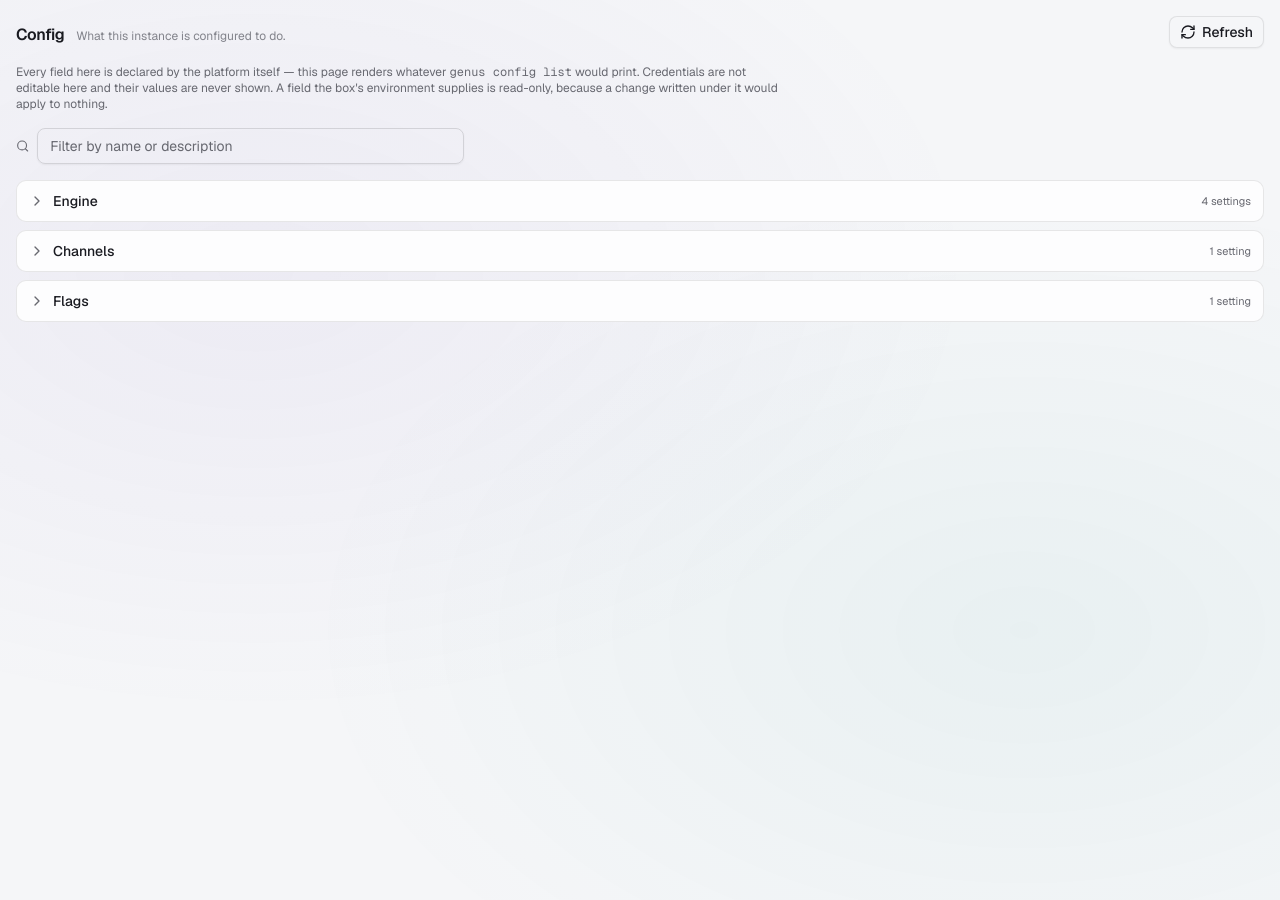
Test case: Settings › Config › never gives a secret an input, and never shows its value
Click the button with test id "config-group-toggle-channels" at [84, 251], box [17, 231, 1263, 271]
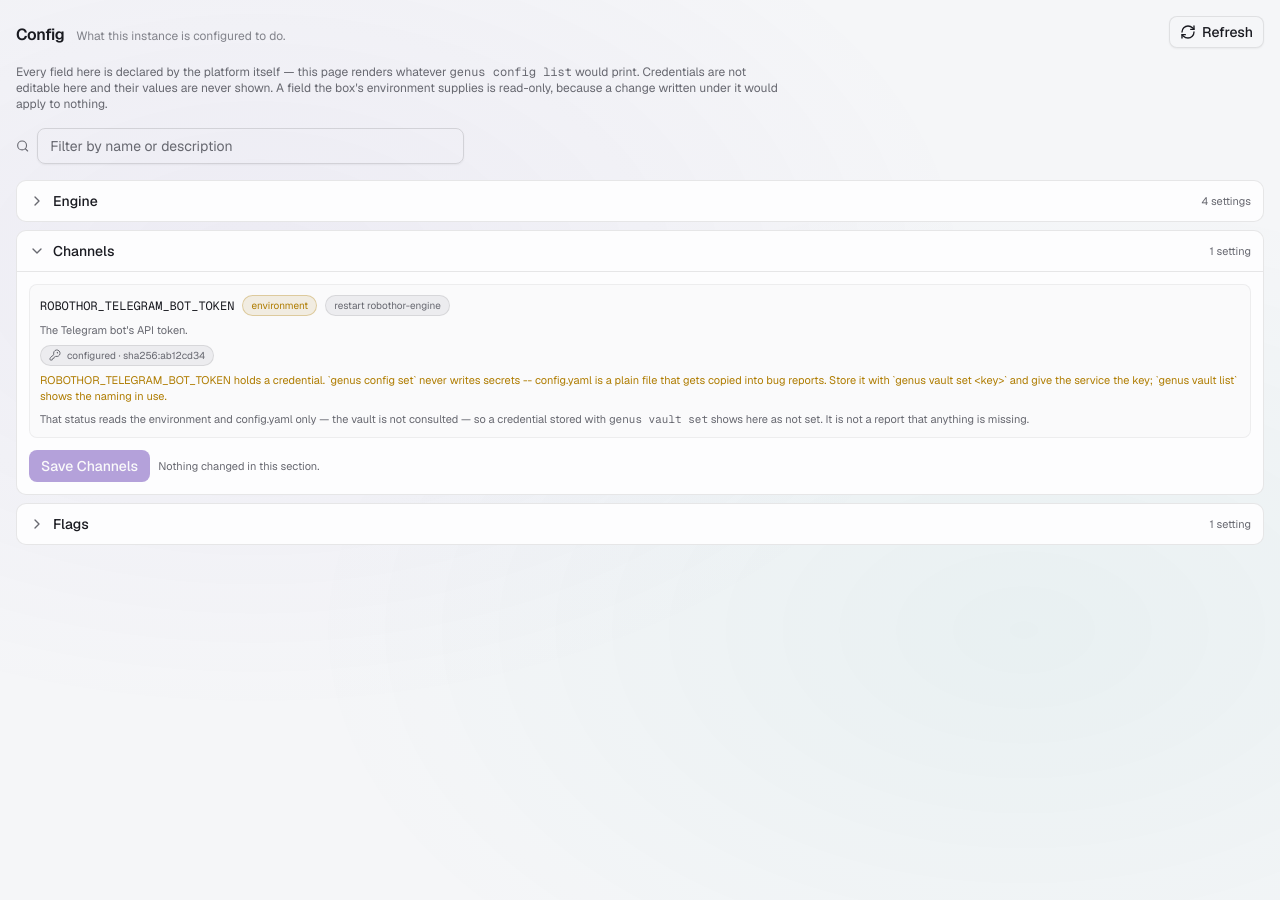
Result: the element with test id "config-secret-ROBOTHOR_TELEGRAM_BOT_TOKEN" shows "configured" at [67, 348, 205, 362]
Result: the element with test id "config-secret-ROBOTHOR_TELEGRAM_BOT_TOKEN" shows "sha256:ab12cd34" at [67, 348, 205, 362]
